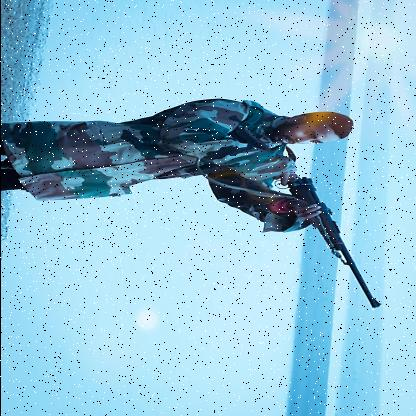rifle: (224, 126, 384, 310)
